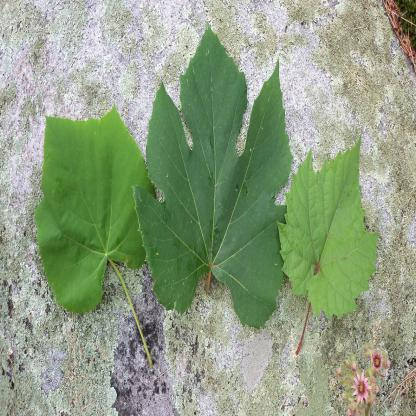grape leaf: (133, 24, 308, 324), (29, 86, 154, 317), (275, 132, 393, 325)
